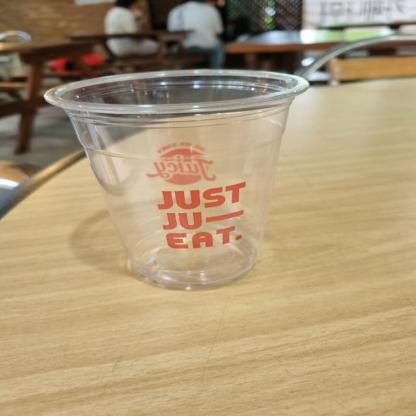Plastic Cup: (46, 69, 310, 294)
